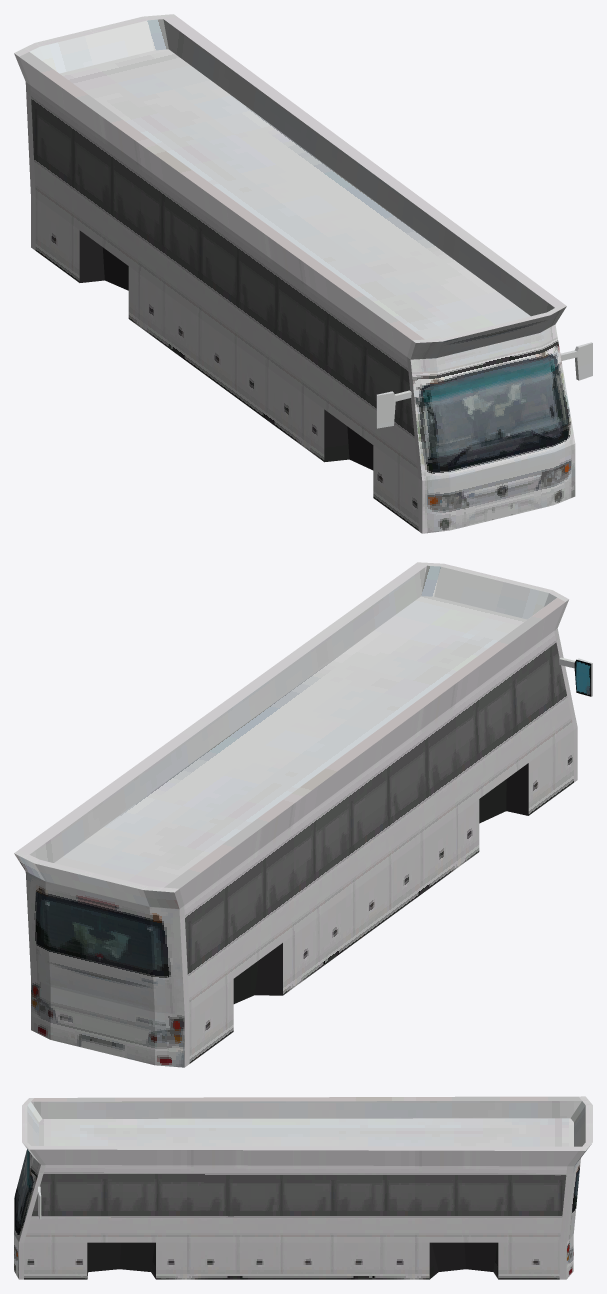
File: BussHvit.glb
The picture shows the model from 3 angles, top to bottom: view 1: azimuth 30°, elevation 25°; view 2: azimuth 150°, elevation 25°; view 3: azimuth 270°, elevation 25°; orthographic projection. The views are drawn at different scales.
Parts seen in each view (by area): view 1: BussHvit; view 2: BussHvit; view 3: BussHvit.
Part boxes in pixels (box(x1,y1,x2,y2)): BussHvit: box(14, 14, 592, 533); BussHvit: box(14, 562, 592, 1067); BussHvit: box(14, 1096, 592, 1279).
Bounding box in the file's own units: 33.78 × 27.69 × 112.
Materials: 1 (1 with a texture image).
